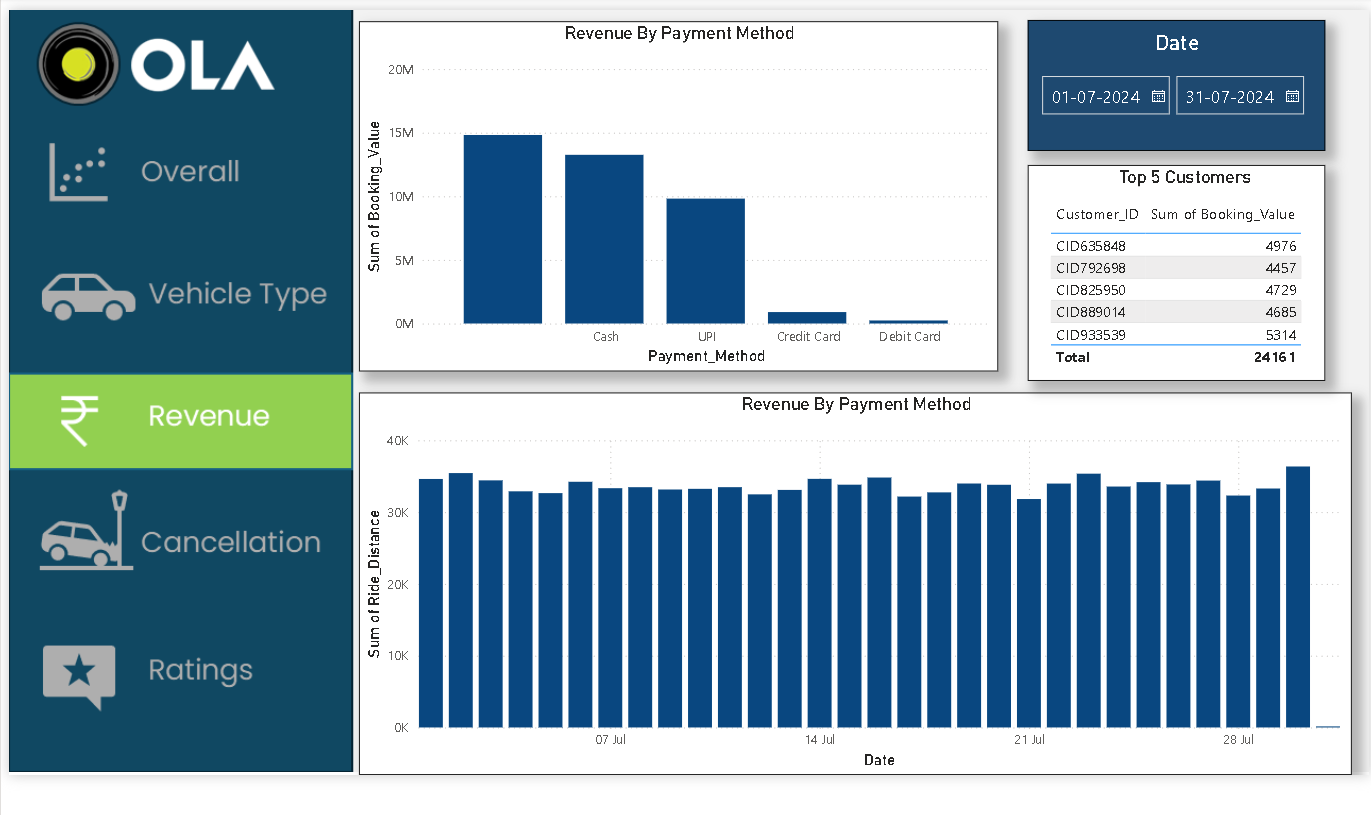

This screenshot's page, from the dashboard's own definition file:
{"tool":"powerbi","page":{"name":"Revenue","canvas":[1280,720],"ordinal":2},"visuals":[{"type":"columnChart","title":"Revenue By Payment Method","fields":{"Category":["bookings_cleaned.Payment_Method"],"Y":["Sum(bookings_cleaned.Booking_Value)"]},"box":[329.5,10.3,601.3,329.5],"z":0},{"type":"columnChart","title":"Revenue By Payment Method","fields":{"Y":["Sum(bookings_cleaned.Ride_Distance)"],"Category":["bookings_cleaned.Date"]},"box":[329.5,360.3,934.6,360.3],"z":1000},{"type":"slicer","title":"Date","fields":{"Values":["bookings_cleaned.Date"]},"box":[959.2,9.6,279.9,123.5],"z":2000},{"type":"tableEx","title":"Top 5 Customers","fields":{"Values":["bookings_cleaned.Customer_ID","Sum(bookings_cleaned.Booking_Value)"]},"box":[959.2,145.5,279.9,203.1],"z":3000},{"type":"actionButton","box":[0,105,324.3,107],"z":3001},{"type":"actionButton","box":[0,195.3,324.3,107],"z":3002},{"type":"actionButton","box":[0,453.1,324.3,107],"z":3003},{"type":"actionButton","box":[0,580.9,324.3,107],"z":3004}]}

Visuals, with their boxes on the page's 1280x720 design canvas (x1, y1, x2, y2). These are canvas units, not pixel positions in the 1371x815 screenshot, which may show the page scaled, cropped or inside an application window:
"Revenue By Payment Method" columnChart: box(330, 10, 931, 340)
"Revenue By Payment Method" columnChart: box(330, 360, 1264, 721)
"Date" slicer: box(959, 10, 1239, 133)
"Top 5 Customers" tableEx: box(959, 146, 1239, 349)
actionButton: box(0, 105, 324, 212)
actionButton: box(0, 195, 324, 302)
actionButton: box(0, 453, 324, 560)
actionButton: box(0, 581, 324, 688)
